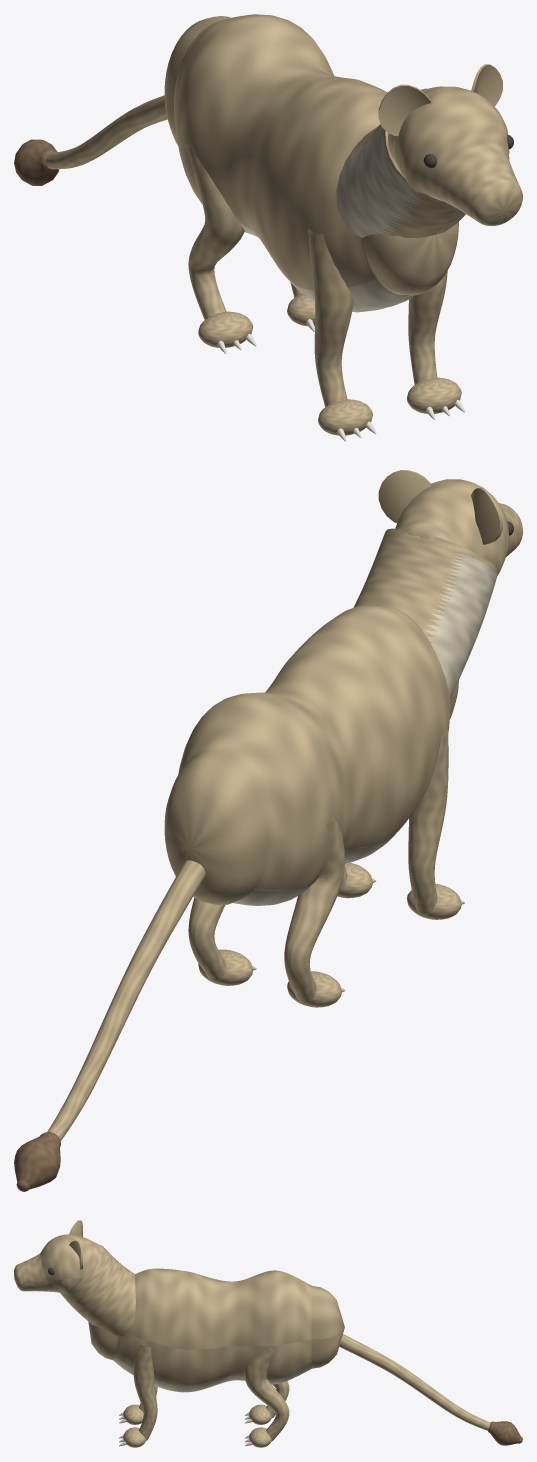
The model's file is other-african-lioness.glb.
The picture shows the model from 3 angles, top to bottom: view 1: azimuth 30°, elevation 25°; view 2: azimuth 150°, elevation 25°; view 3: azimuth 270°, elevation 25°; orthographic projection. The views are drawn at different scales.
Visible parts, largest first — view 1: african-lioness; view 2: african-lioness; view 3: african-lioness.
Boxes of the visible parts, box(x1,y1,x2,y2) form: african-lioness: box(14, 14, 522, 441); african-lioness: box(14, 470, 522, 1191); african-lioness: box(14, 1220, 522, 1447).
Size of the model in its own units: 0.5189 by 1.41 by 3.05.
6 materials, 3 textured.
